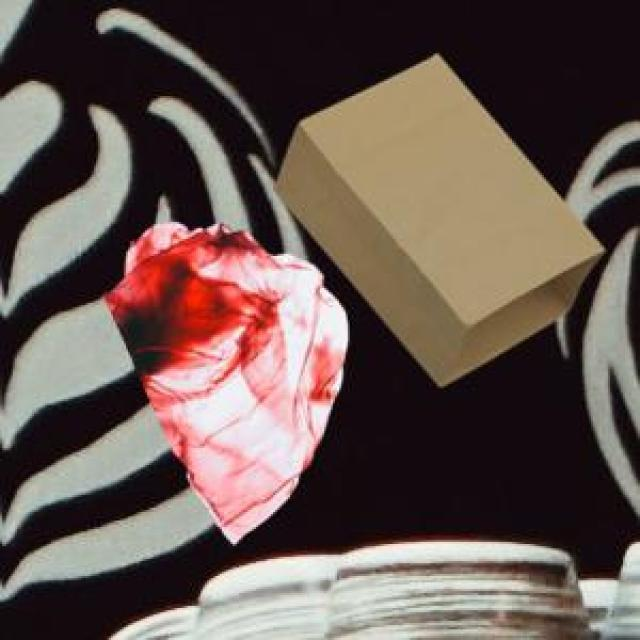paper: (271, 51, 600, 382)
